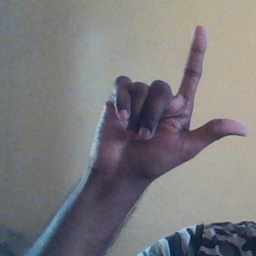L: (90, 23, 251, 178)
